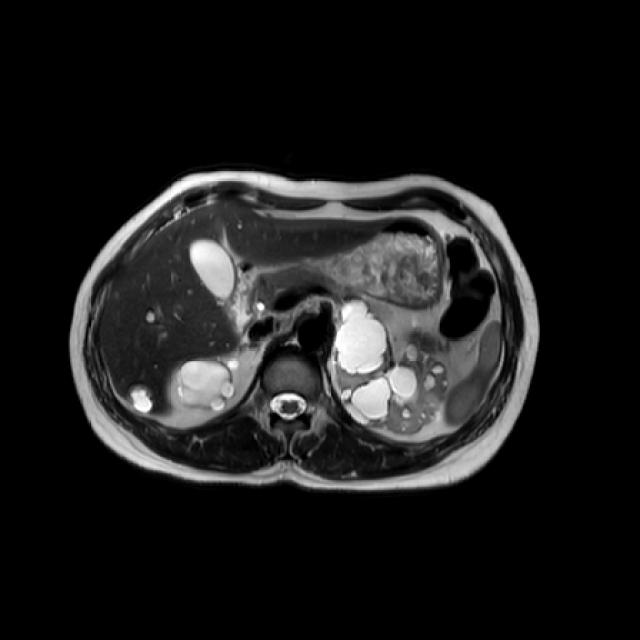sag: (175, 357, 235, 413)
sol: (334, 297, 451, 436)
